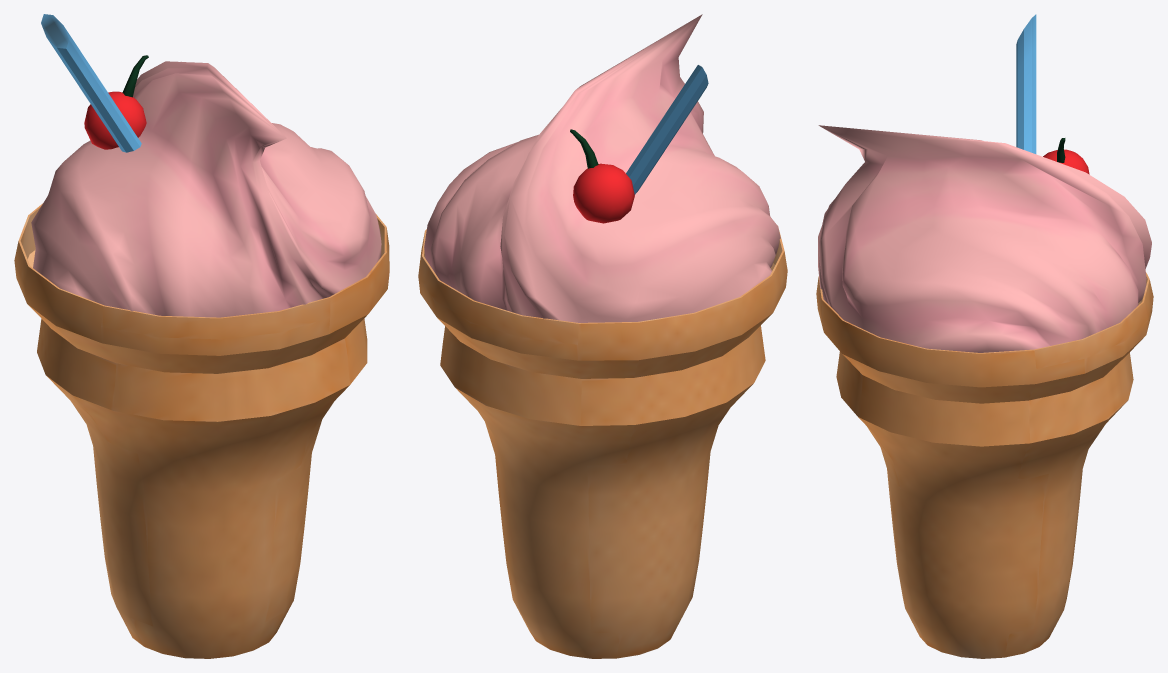
Rendered from icecream-0872d269.glb.
3 renders of one model, left to right at view 1: azimuth 30°, elevation 25°; view 2: azimuth 150°, elevation 25°; view 3: azimuth 270°, elevation 25°, orthographic. The views are drawn at different scales.
Visible parts, largest first — view 1: iceCream; view 2: iceCream; view 3: iceCream.
Part boxes in pixels (x1=…): iceCream: x1=14, y1=14, x2=389, y2=658; iceCream: x1=418, y1=14, x2=787, y2=658; iceCream: x1=816, y1=14, x2=1153, y2=658.
Size of the model in its own units: 6.78 by 12.42 by 6.78.
1 material, 1 textured.
